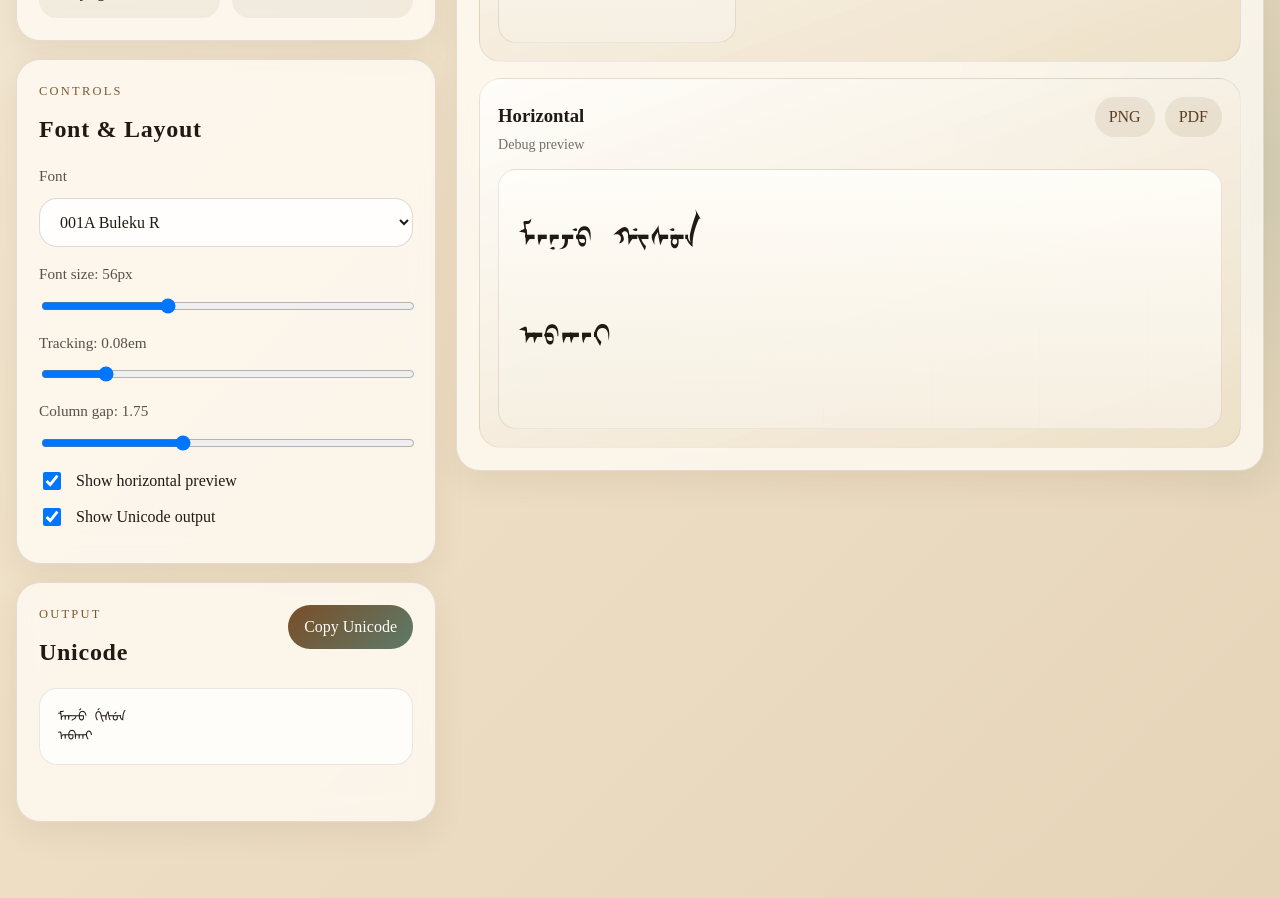
Test: App › shows unicode output and copies the same value
(page scrolled)
Click the button "Copy Unicode". click: (351, 627)
box: [288,605,413,649]
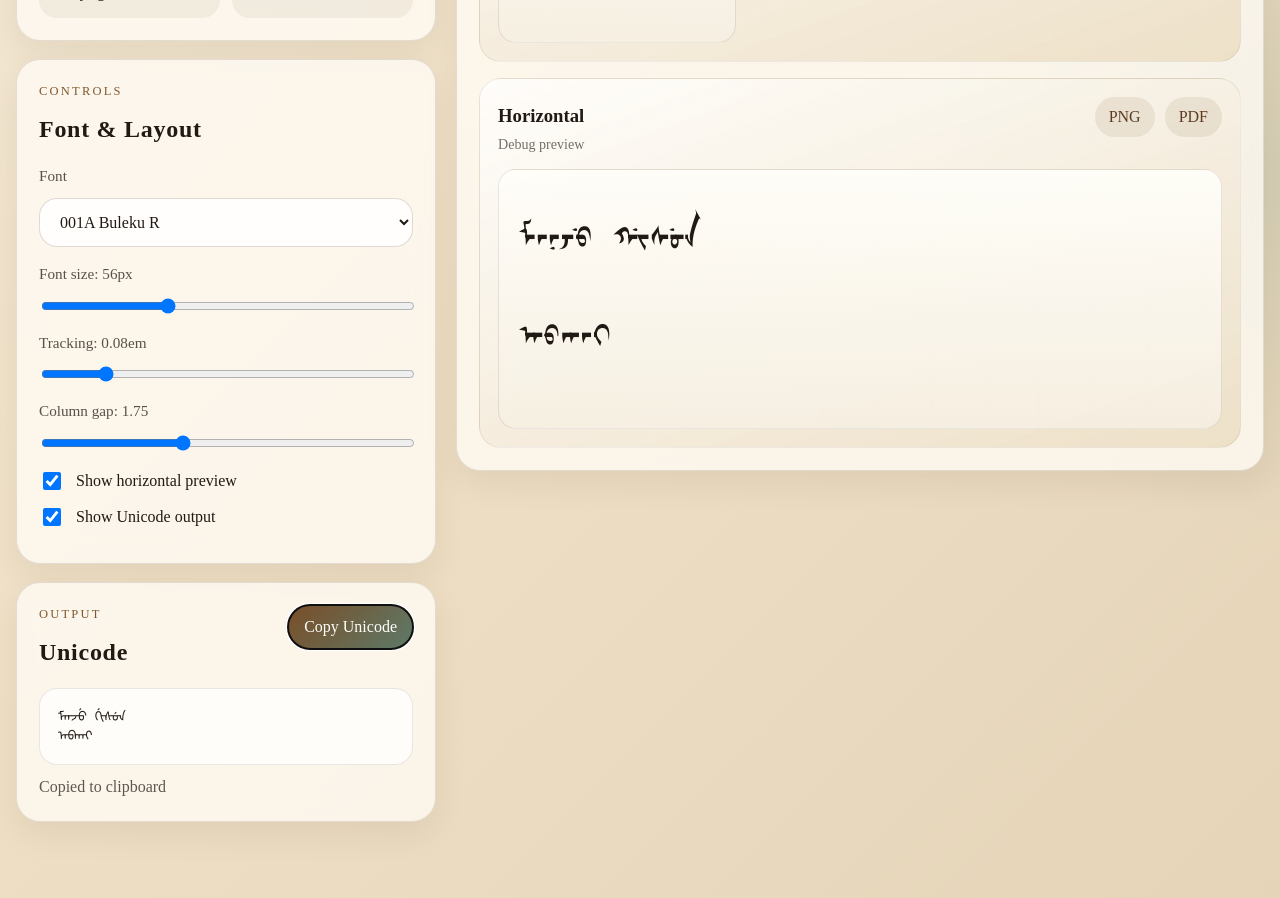
Expected: the text "Copied to clipboard" is shown, [39,778,166,795]
